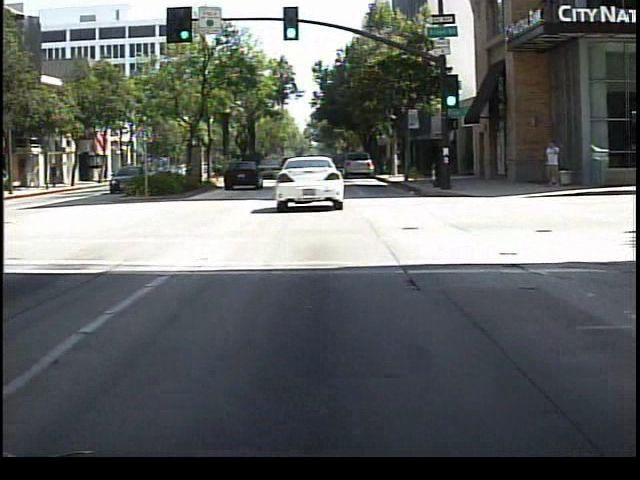person: (541, 138, 565, 193), (48, 160, 63, 195)
